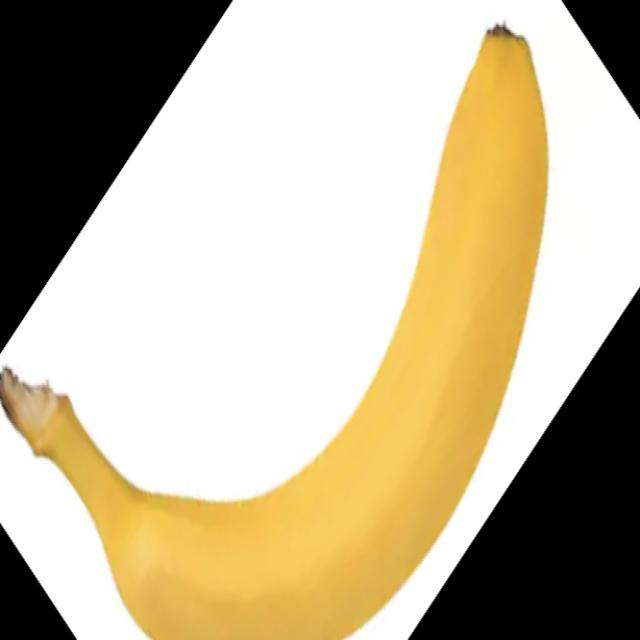god quality banana: (0, 25, 549, 640)
